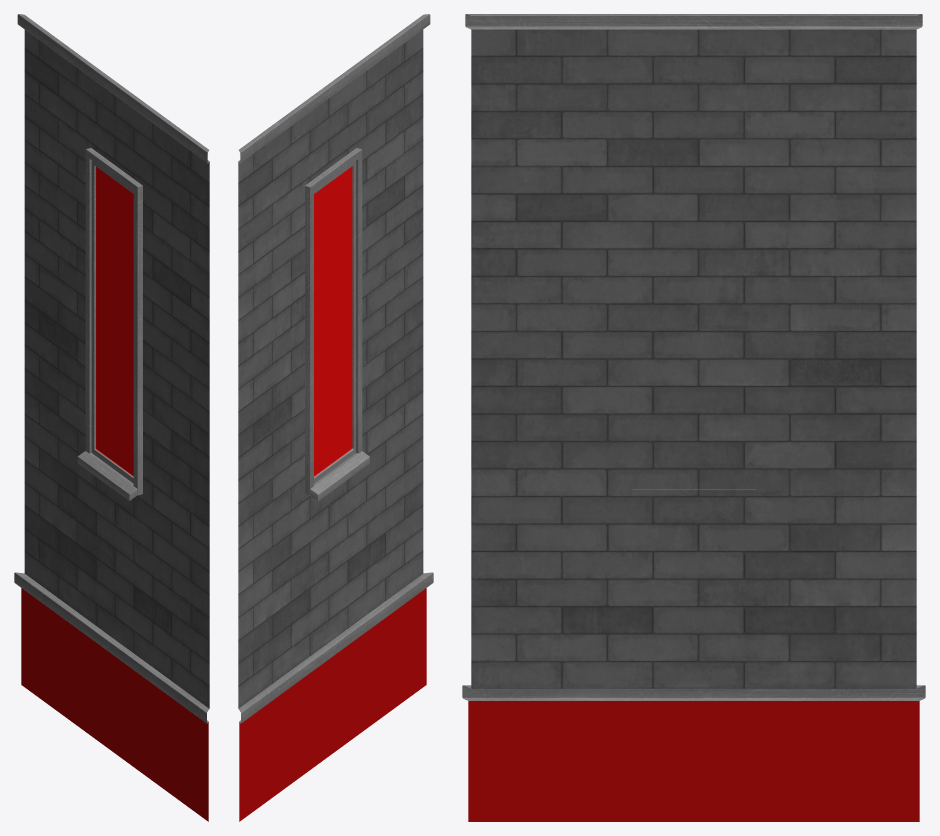
The model's file is SM_Base_150_Window_01.fbx.
The picture shows the model from 3 angles, left to right: view 1: azimuth 30°, elevation 25°; view 2: azimuth 150°, elevation 25°; view 3: azimuth 270°, elevation 25°; orthographic projection. The views are drawn at different scales.
Parts seen in each view (by area): view 1: SM_Base_150_Window_01_LOD0; view 2: SM_Base_150_Window_01_LOD0; view 3: SM_Base_150_Window_01_LOD0.
Boxes of the visible parts, <box> form: SM_Base_150_Window_01_LOD0: <box>14,14,209,821</box>; SM_Base_150_Window_01_LOD0: <box>238,14,433,821</box>; SM_Base_150_Window_01_LOD0: <box>462,14,925,821</box>.
Bounding box in the file's own units: 6.44 × 156 × 300.
